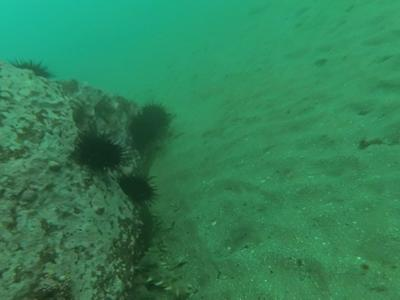holothurian: (132, 249, 198, 295)
urchin: (71, 128, 119, 174), (127, 102, 170, 149), (115, 172, 160, 207), (12, 59, 56, 80)
